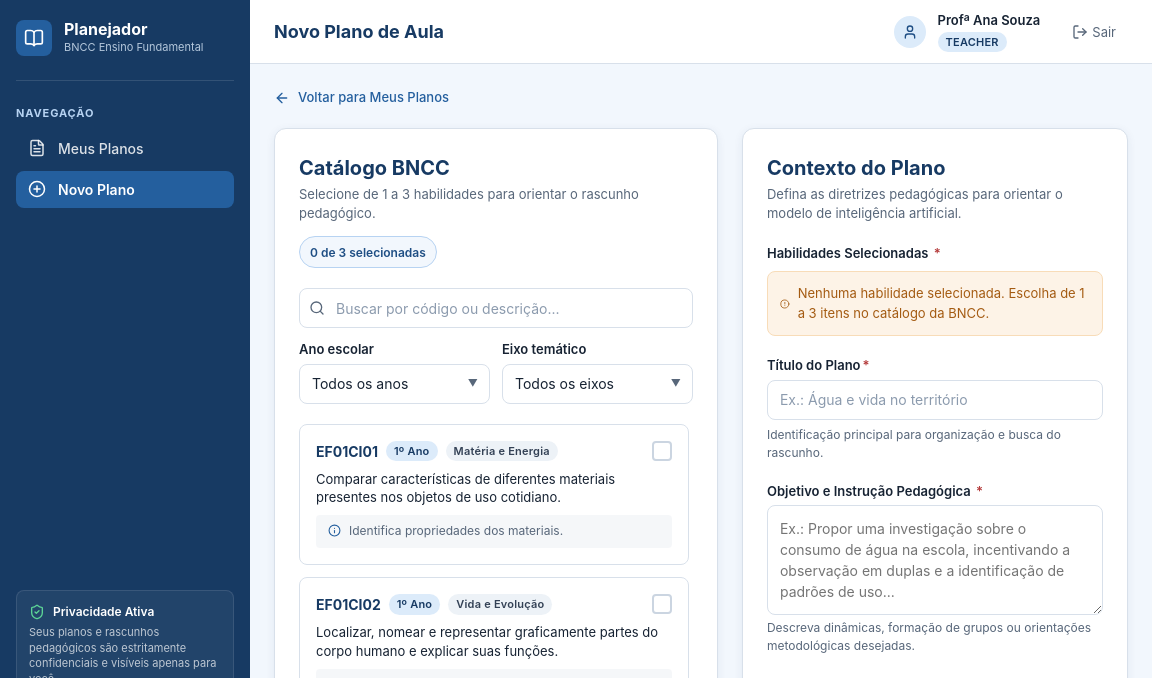
it: Novo Plano Page (T043 / US2 / US3) › deve desabilitar botão de submissão quando formulário estiver incompleto
The image size is (1152, 678).
Click the text "EF01CI01" at {"x": 347, "y": 451}, box [316,440,378,462]
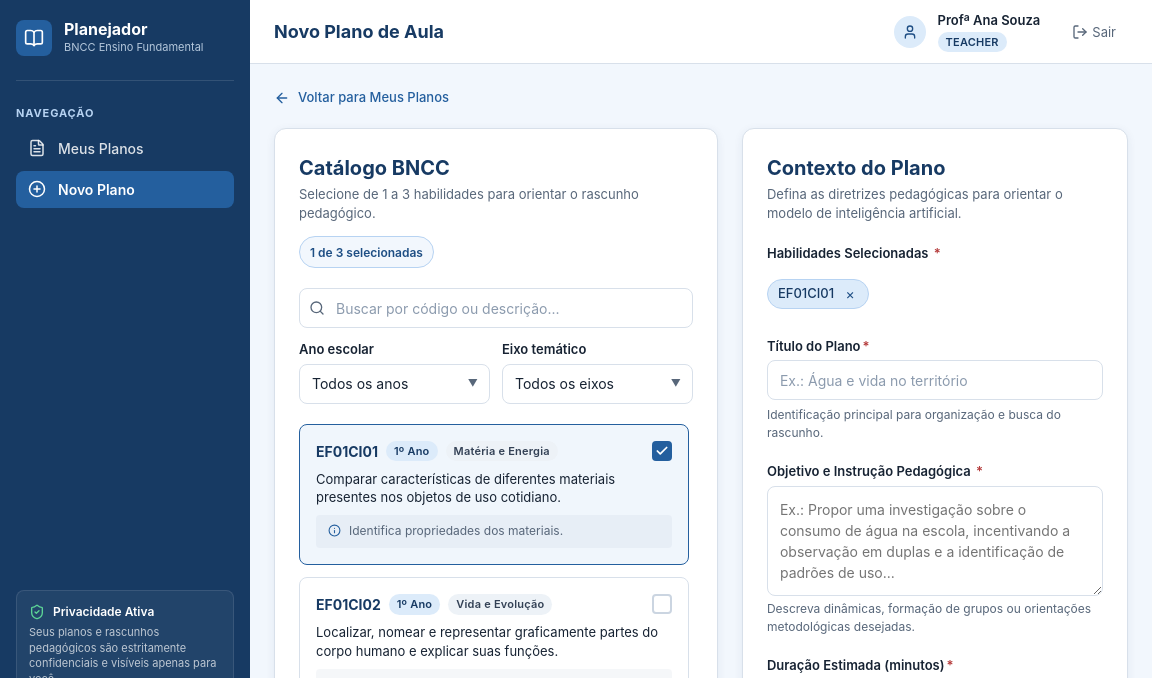
Note: Preenche título mas falta objetivo
Type "Aula de Ciências sobre Materiais" into the field labelled "Título do Plano*" at {"x": 935, "y": 380}, box [767,360,1103,400]
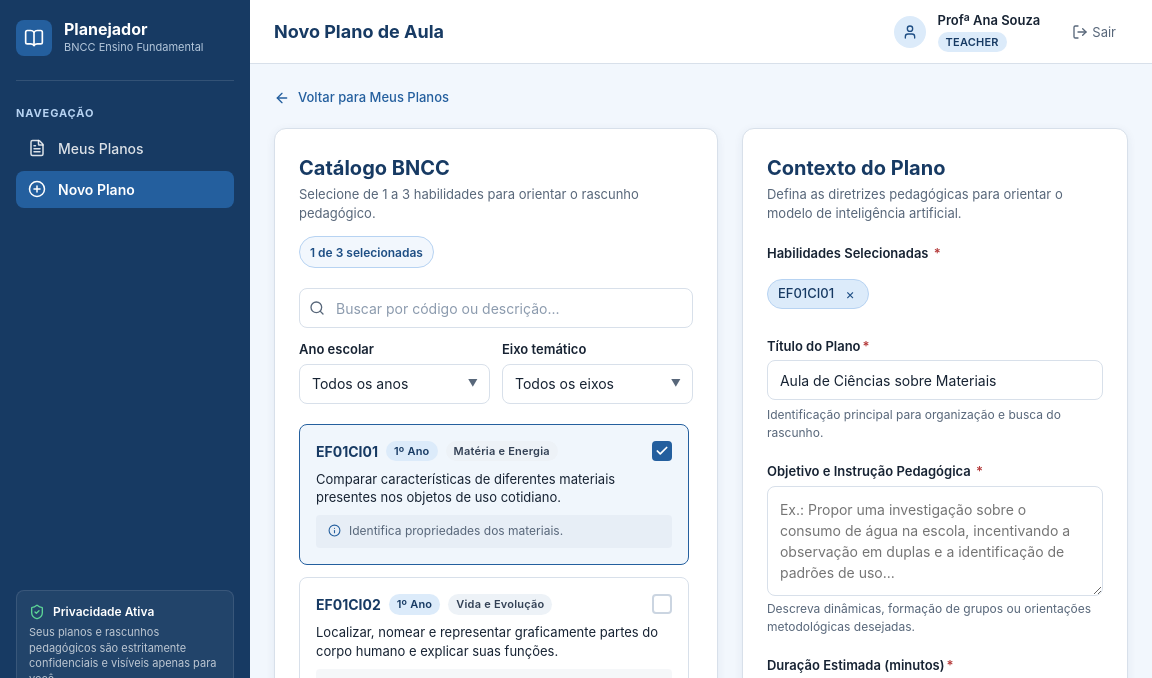
Note: Preenche objetivo pedagógico
Replace the text in the text box labelled "Objetivo e Instrução Pedagógica *" with "Explorar as propriedades físicas dos objetos da sala." at {"x": 935, "y": 540}, box [767,486,1103,596]
(page scrolled)
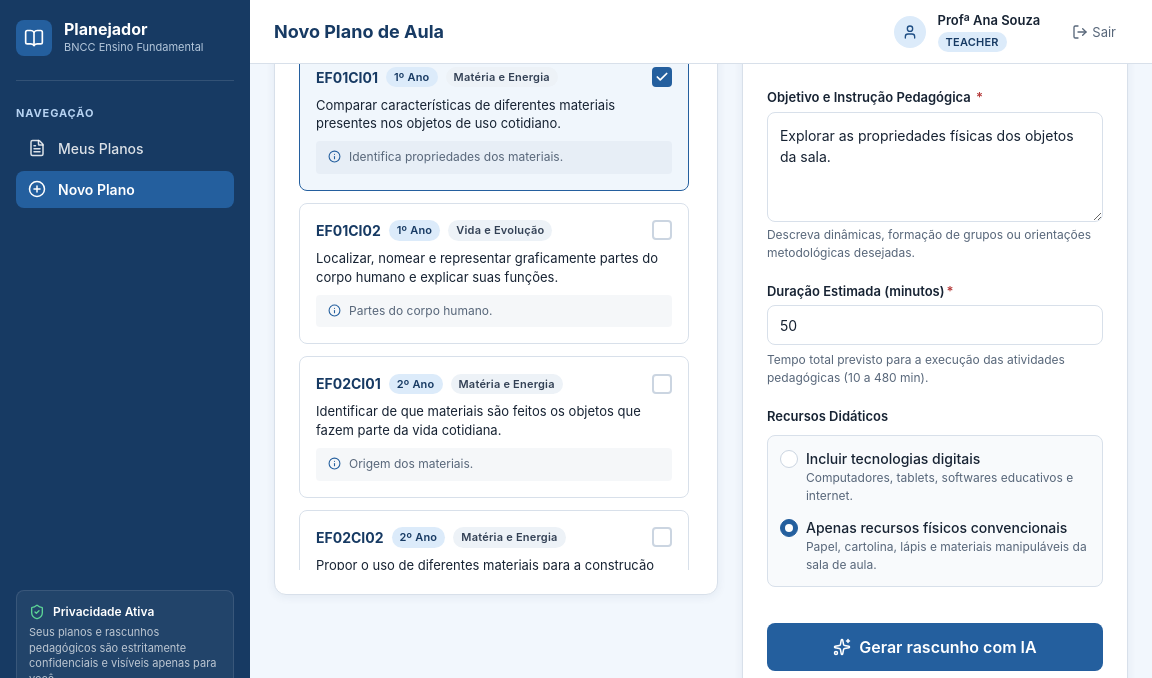
Result: the button "Gerar rascunho com IA" is enabled at [767,622,1103,670]
